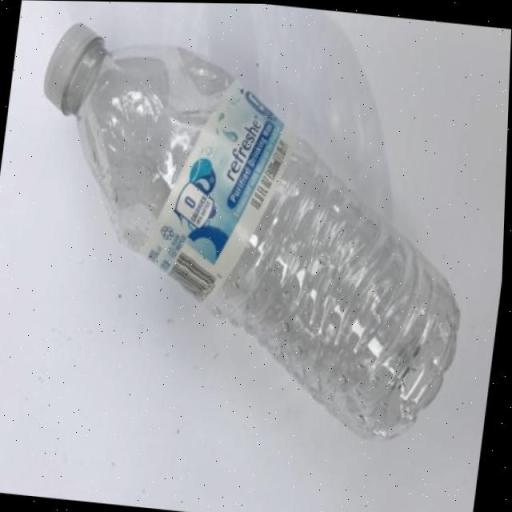plastic: (2, 13, 496, 452)
